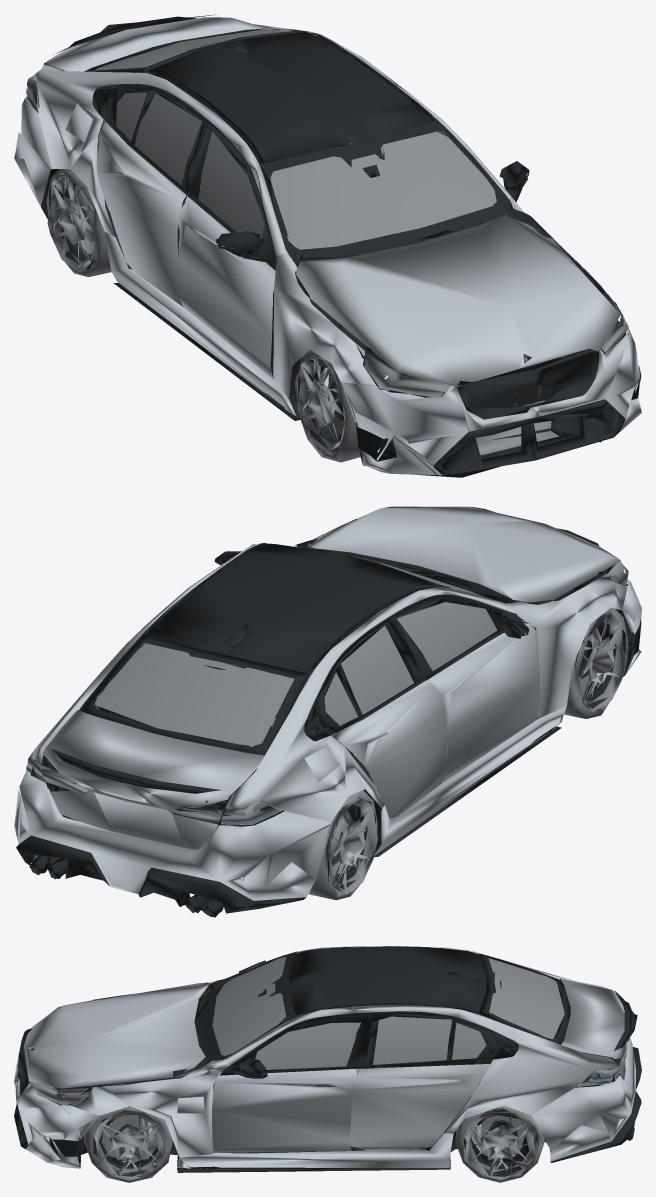
File: bmw-g90-m5-ps2.glb
3 renders of one model, top to bottom at view 1: azimuth 30°, elevation 25°; view 2: azimuth 150°, elevation 25°; view 3: azimuth 270°, elevation 25°, orthographic. The views are drawn at different scales.
Bounding box in the file's own units: 2.16 × 1.44 × 5.09.
Materials: 3 (3 with a texture image).
